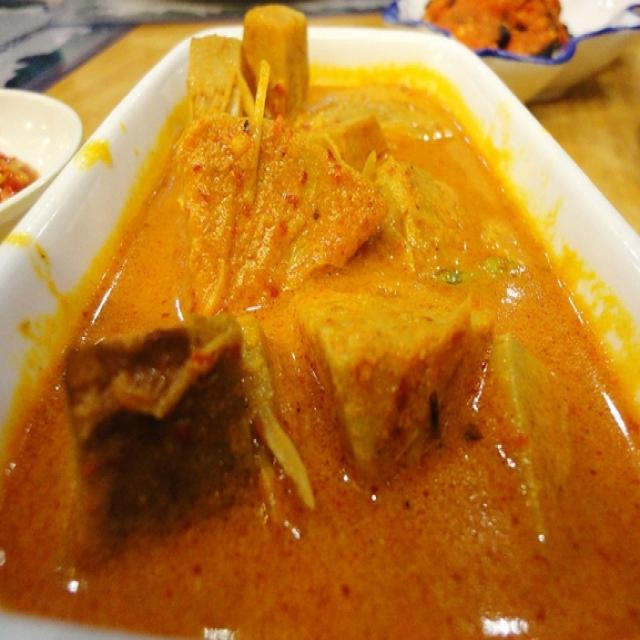熟制海鲜: (53, 31, 629, 621)
